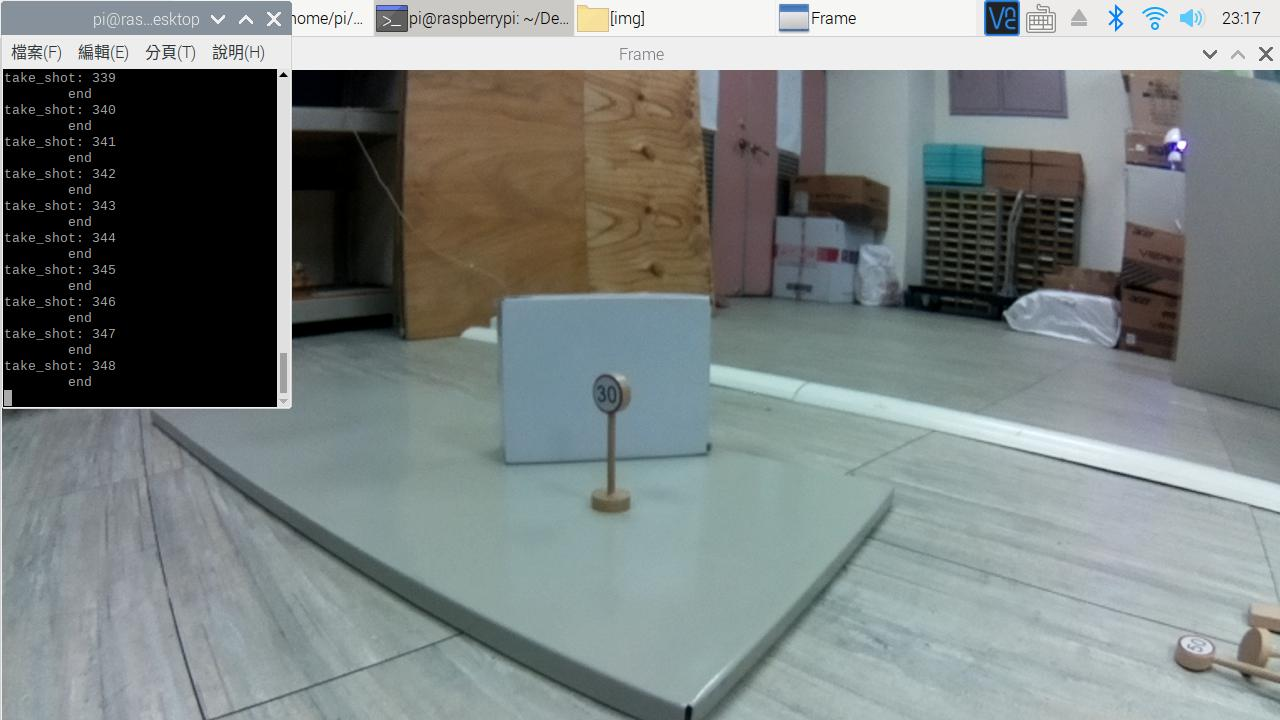Speed30: (569, 360, 642, 426)
